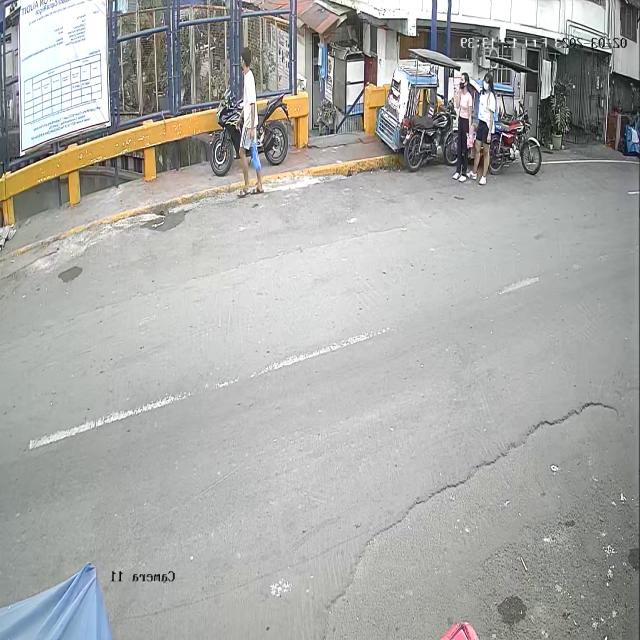garbage_dumping: (248, 132, 262, 174)
